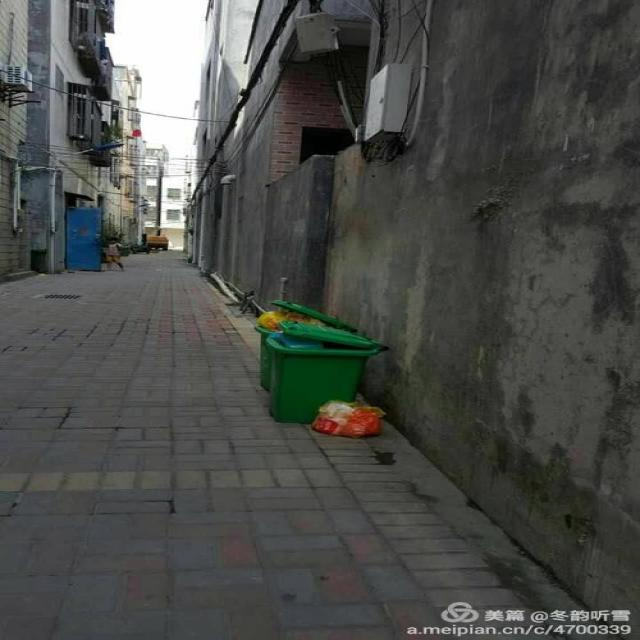garbage: (310, 396, 389, 438)
overflow: (257, 301, 379, 424)
